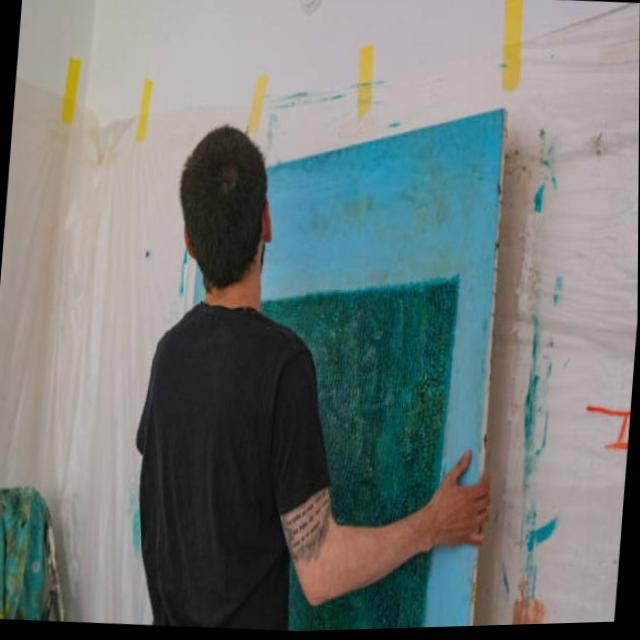no helmet: (169, 121, 289, 329)
